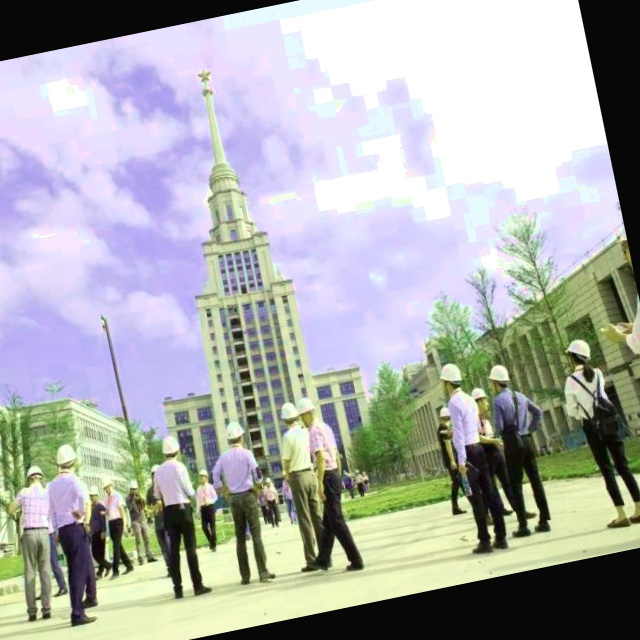Con_Casco: (436, 361, 466, 397), (52, 441, 79, 473), (277, 400, 300, 427), (159, 434, 182, 460), (224, 420, 246, 444), (23, 463, 45, 487)
